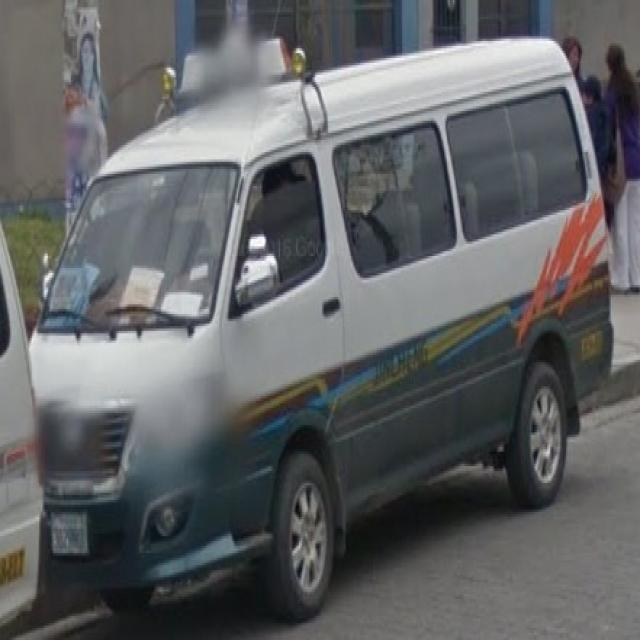Car: (27, 42, 621, 612)
